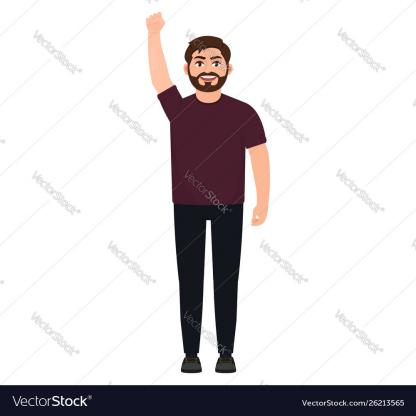Thumbs-Up: (138, 6, 170, 36)
